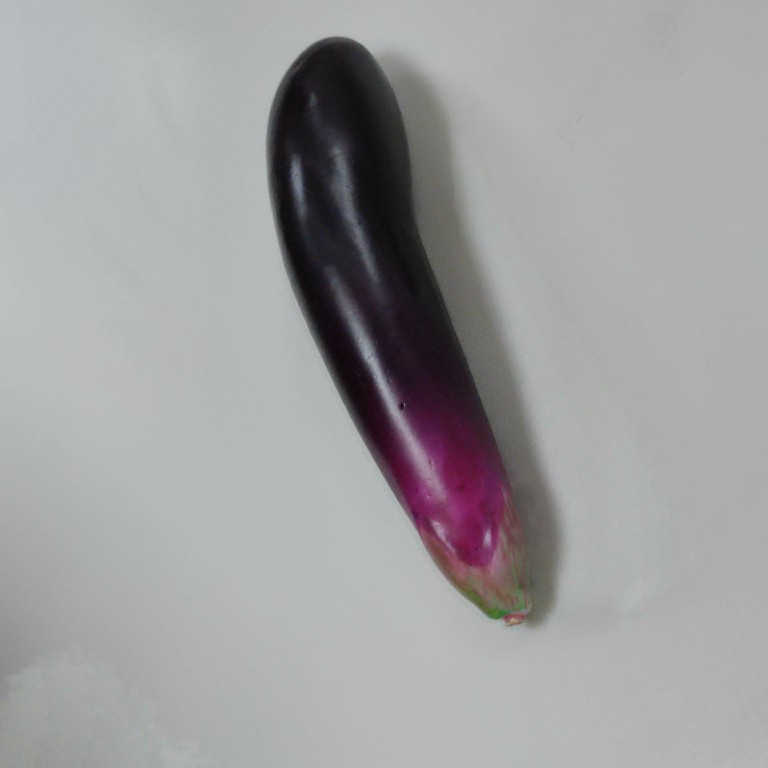fruit_eggplant: (259, 31, 537, 633)
